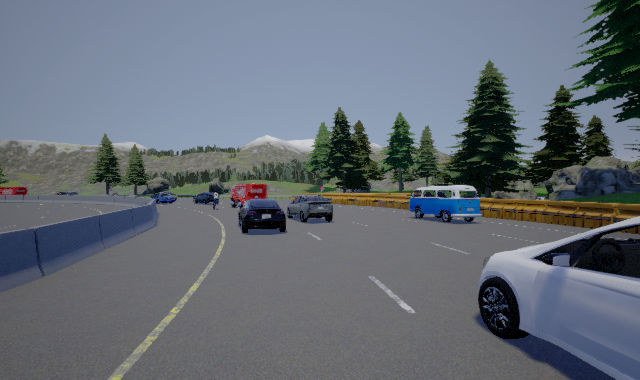vehicle: (478, 216, 640, 380), (409, 185, 482, 223), (237, 197, 286, 235), (287, 195, 333, 223), (229, 182, 270, 210), (193, 190, 221, 210), (144, 189, 175, 205)
